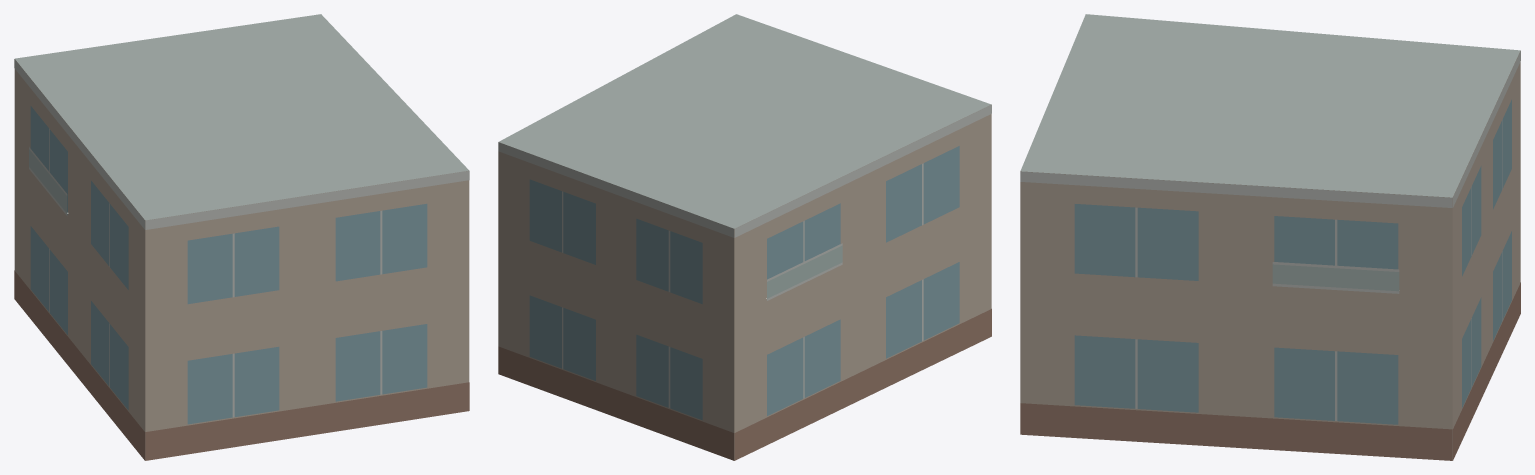
Rendered from survey-upis-32886964.glb.
The picture shows the model from 3 angles, left to right: view 1: azimuth 30°, elevation 25°; view 2: azimuth 150°, elevation 25°; view 3: azimuth 270°, elevation 25°; orthographic projection. The views are drawn at different scales.
Visible parts, largest first — view 1: survey-upis-32886964.tmp; view 2: survey-upis-32886964.tmp; view 3: survey-upis-32886964.tmp.
Boxes of the visible parts, x1,y1,x2,y2 form: survey-upis-32886964.tmp: (14, 14, 469, 460); survey-upis-32886964.tmp: (498, 14, 991, 460); survey-upis-32886964.tmp: (1020, 14, 1520, 460).
Size of the model in its own units: 9.13 by 6.1 by 10.52.
